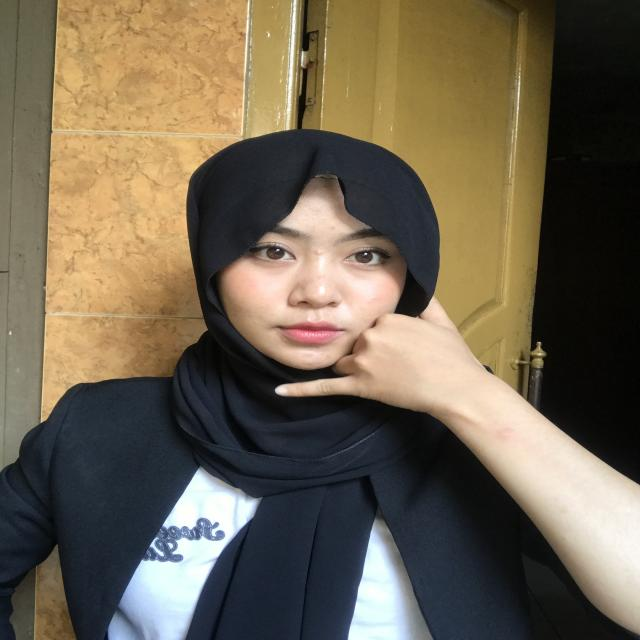telpon: (279, 284, 480, 414)
